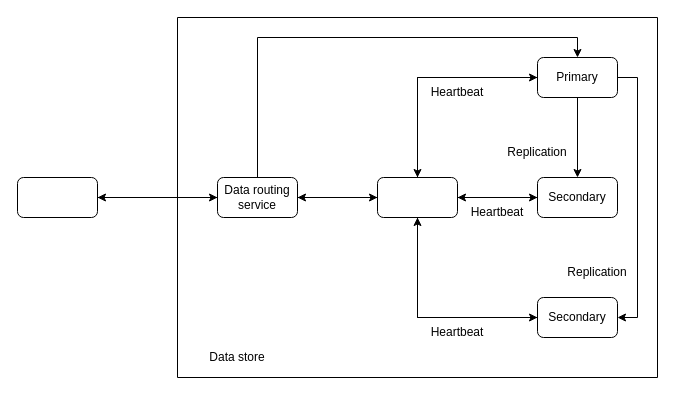
The diagram is 675 pixels wide and 395 high, and some of its shapes have lost their labels. Each missing label, with the centre of its shape:
API service: the point at 57,197
Placement service: the point at 417,197
